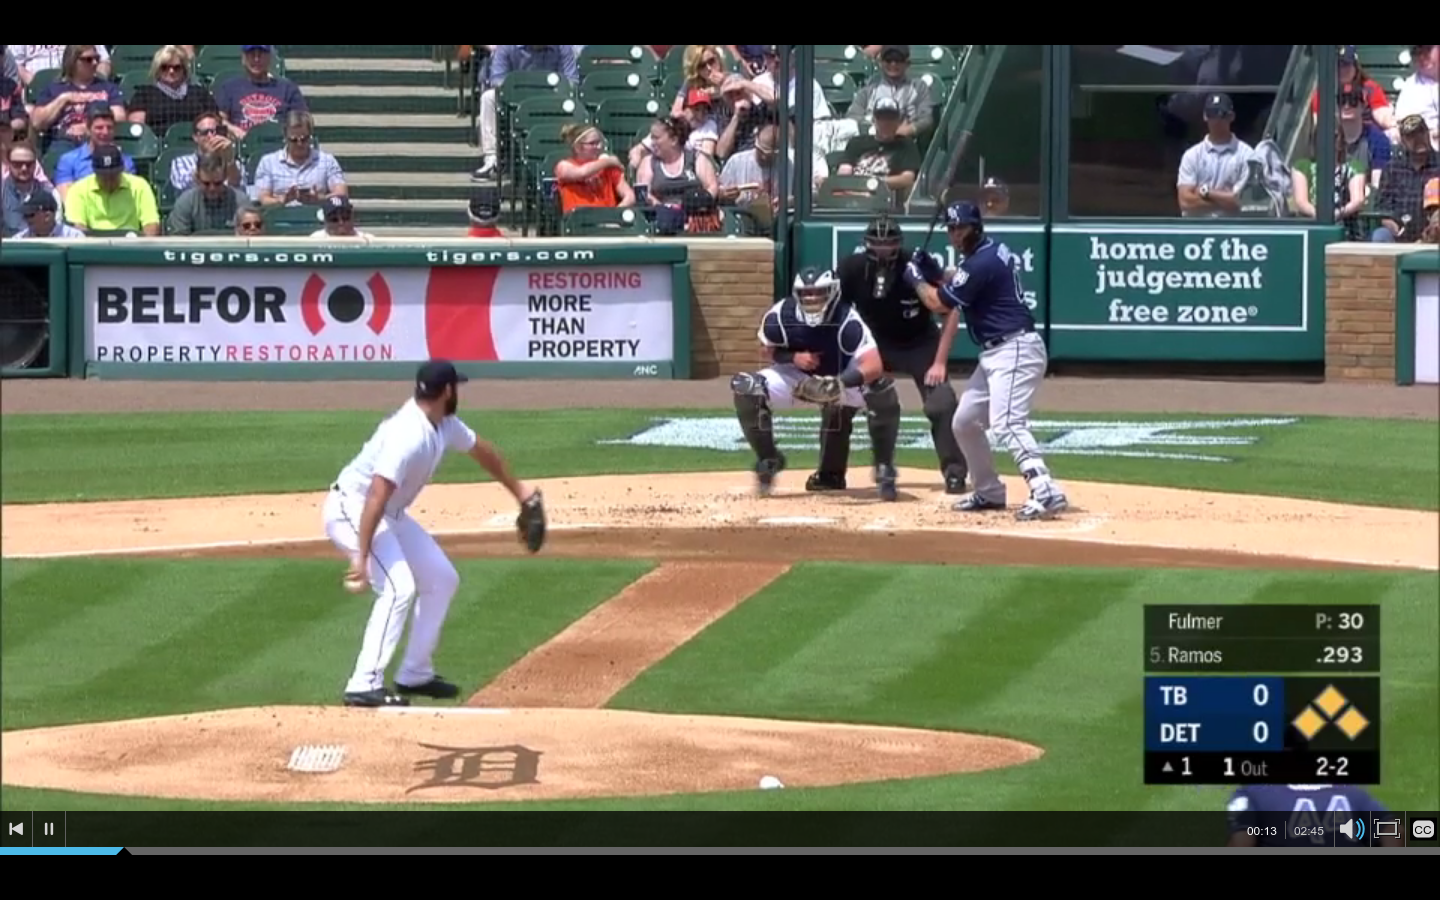baseball: (339, 571, 372, 605)
baseball bat: (912, 129, 972, 280)
baseball player: (308, 360, 552, 716), (912, 203, 1055, 526), (727, 272, 904, 505)
referee: (816, 211, 968, 503)
